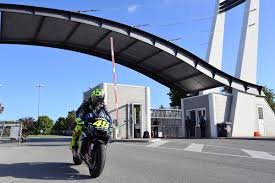motor: (74, 114, 113, 178)
